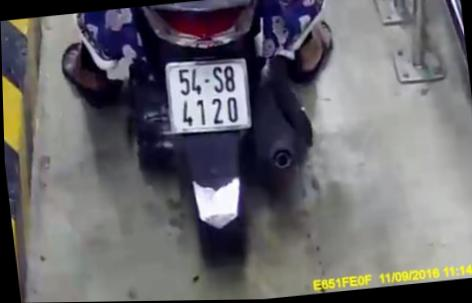LP: (163, 56, 253, 135)
